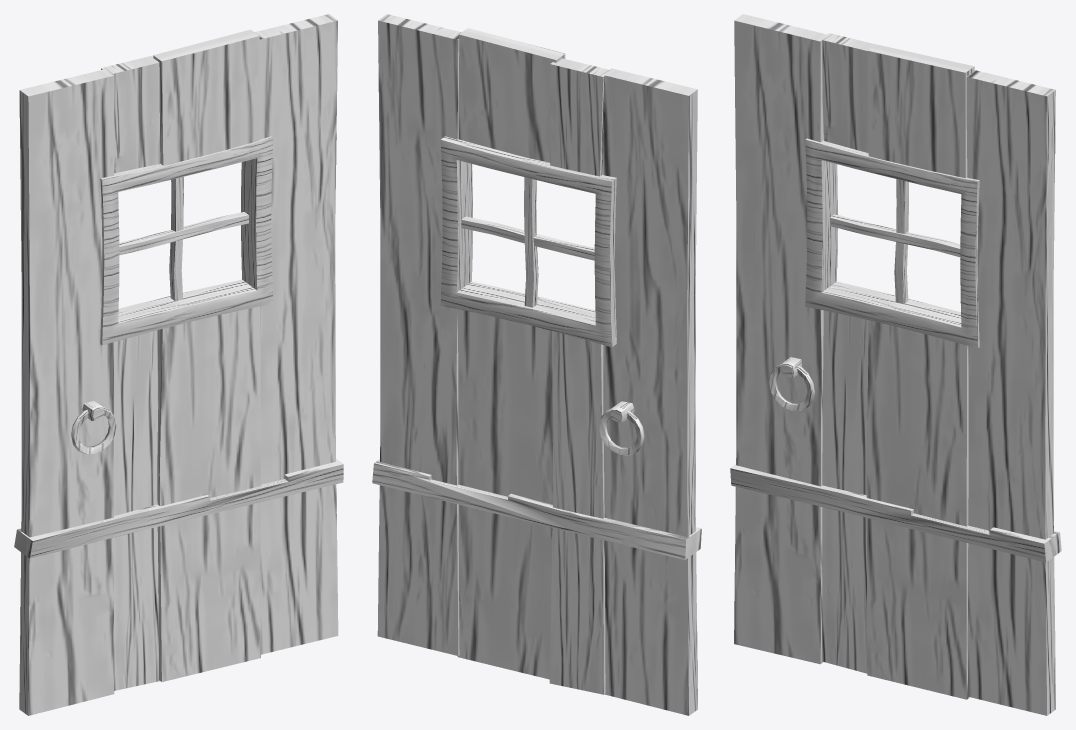
File: ARC0110026.fbx
The picture shows the model from 3 angles, left to right: view 1: azimuth 30°, elevation 25°; view 2: azimuth 150°, elevation 25°; view 3: azimuth 330°, elevation 25°; orthographic projection.
Parts seen in each view (by area): view 1: smARC0110026; view 2: smARC0110026; view 3: smARC0110026.
Boxes of the visible parts, bbox=[...] form: smARC0110026: bbox=[14, 14, 343, 715]; smARC0110026: bbox=[372, 14, 701, 715]; smARC0110026: bbox=[730, 14, 1061, 715].
Bounding box in the file's own units: 134 × 256 × 21.27.
1 material, 1 textured.
